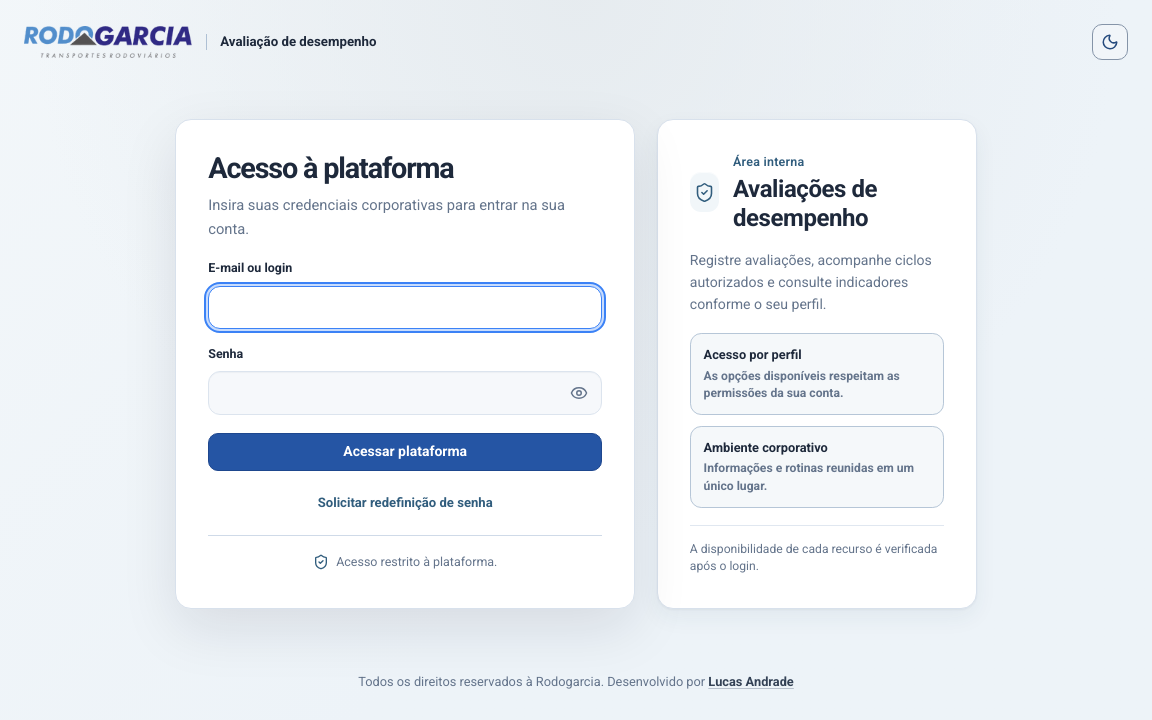
Test case: Solicitação de recuperação no login › mantém os campos e as ações secundárias no único cartão de acesso
Step 1. Click the button named "Mostrar senha" → [579, 393], box left=559, top=375, right=599, bottom=411
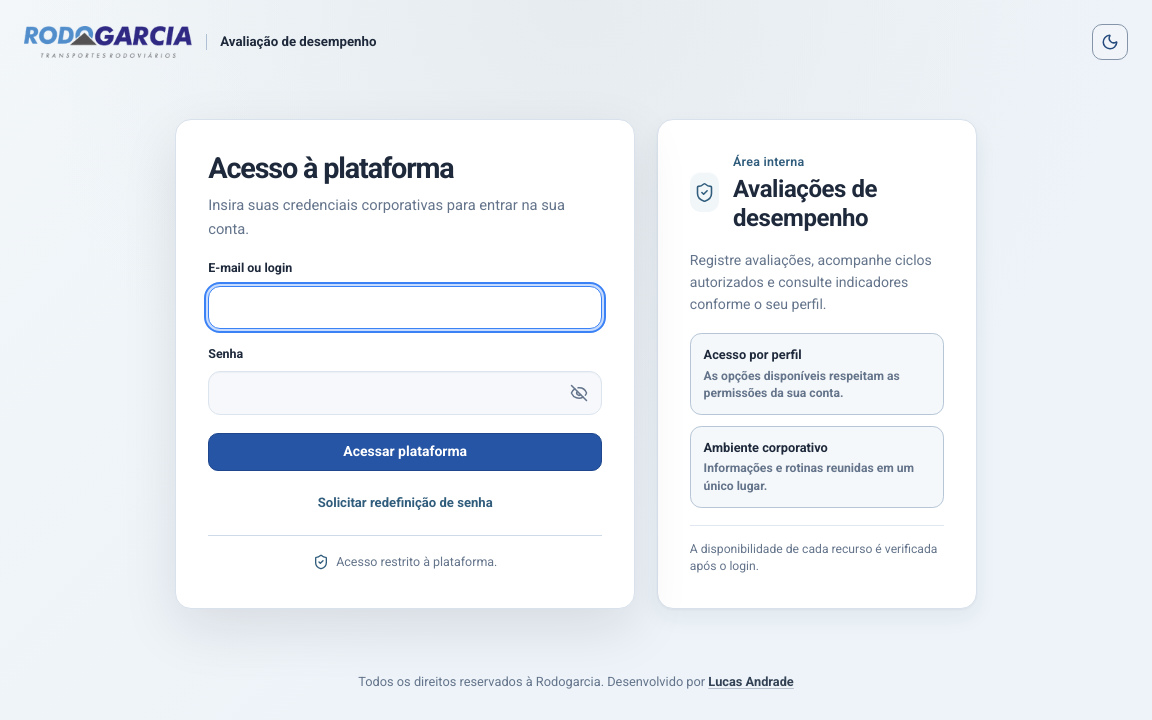
Check: the text "Acesso restrito à plataforma." is shown, box left=336, top=552, right=497, bottom=571
Check: the button named "Ocultar senha" is shown, box left=559, top=375, right=599, bottom=411
Step 2. Click the button "Solicitar redefinição de senha" → [405, 503], box left=310, top=487, right=501, bottom=519
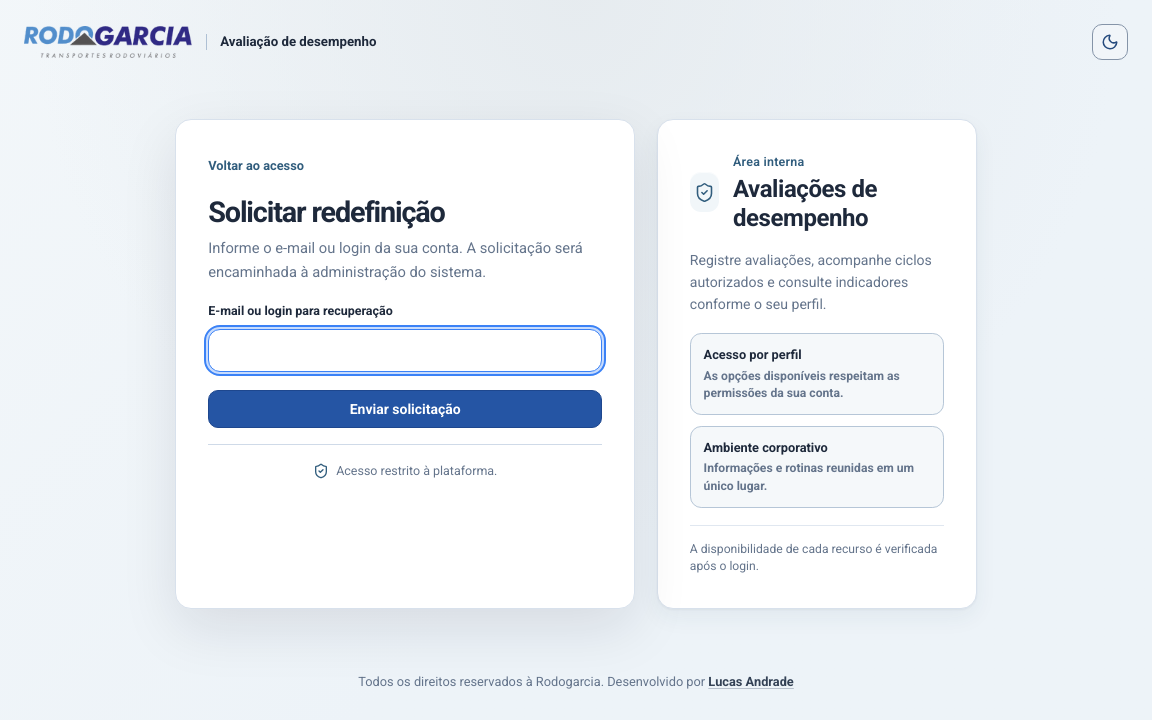
Check: the heading "Solicitar redefinição" is shown, box left=208, top=195, right=445, bottom=229
Step 3. Click the button "Voltar ao acesso" → [256, 166], box left=208, top=152, right=304, bottom=180
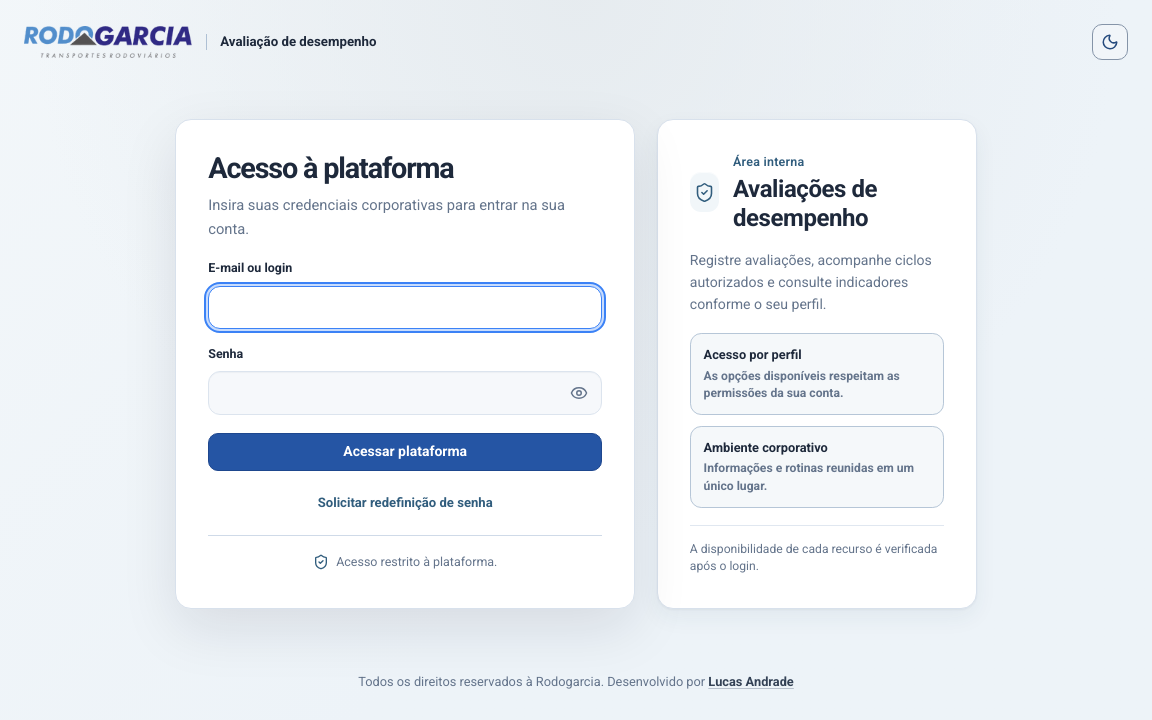
Check: the heading "Acesso à plataforma" is shown, box left=208, top=151, right=454, bottom=185
Check: the password field labelled "Senha" is empty, box left=208, top=371, right=602, bottom=415
